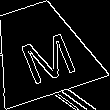M_N: (7, 19, 74, 82)
